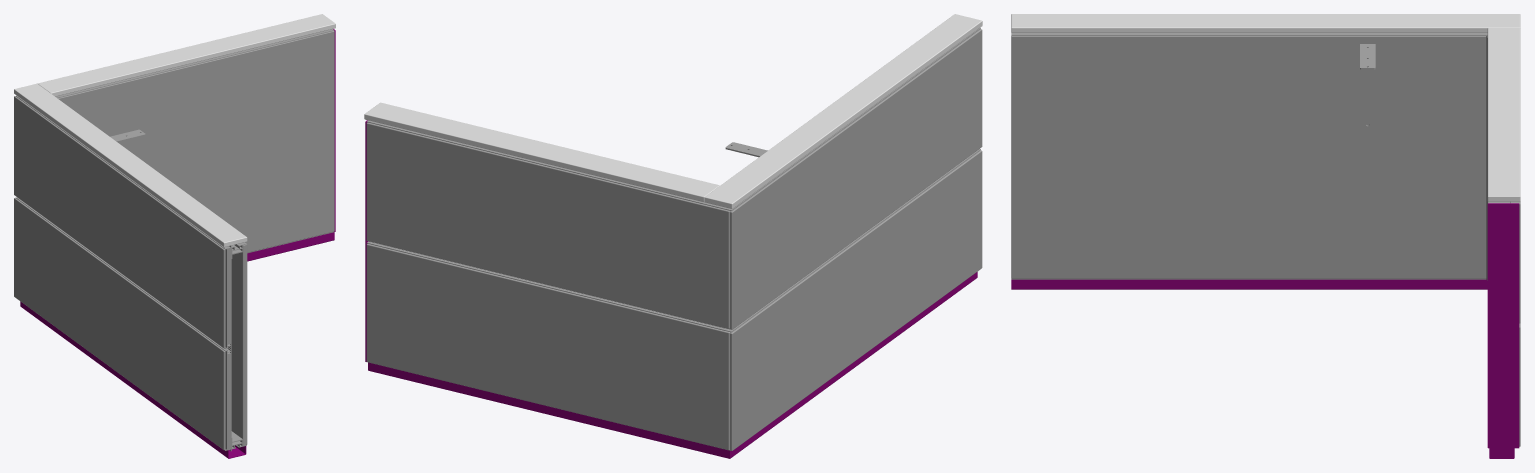
File: Counter_120x100_FINAL.fbx
3 views of the same model, side by side, from view 1: azimuth 30°, elevation 25°; view 2: azimuth 150°, elevation 25°; view 3: azimuth 270°, elevation 25° (orthographic). The views are drawn at different scales.
Visible parts, largest first — view 1: polySurface1, drewno1_mesh, drewno2_mesh, blat_mesh, METAL_MESH, polySurface3; view 2: drewno1_mesh, drewno2_mesh, blat_mesh, polySurface3, METAL_MESH; view 3: polySurface1, blat_mesh, polySurface3, METAL_MESH.
Part boxes in pixels (x1=…): polySurface1: x1=58, y1=31, x2=334, y2=445; drewno1_mesh: x1=14, y1=96, x2=225, y2=348; drewno2_mesh: x1=14, y1=197, x2=225, y2=449; blat_mesh: x1=14, y1=14, x2=335, y2=247; METAL_MESH: x1=16, y1=29, x2=334, y2=451; polySurface3: x1=20, y1=29, x2=335, y2=458; drewno1_mesh: x1=366, y1=29, x2=982, y2=329; drewno2_mesh: x1=366, y1=150, x2=982, y2=450; blat_mesh: x1=364, y1=14, x2=982, y2=208; polySurface3: x1=365, y1=120, x2=977, y2=458; METAL_MESH: x1=366, y1=27, x2=980, y2=450; polySurface1: x1=1011, y1=36, x2=1488, y2=278; blat_mesh: x1=1011, y1=14, x2=1520, y2=201; polySurface3: x1=1011, y1=203, x2=1519, y2=458; METAL_MESH: x1=1011, y1=33, x2=1518, y2=280.
Size of the model in its own units: 109 by 129 by 73.35.
